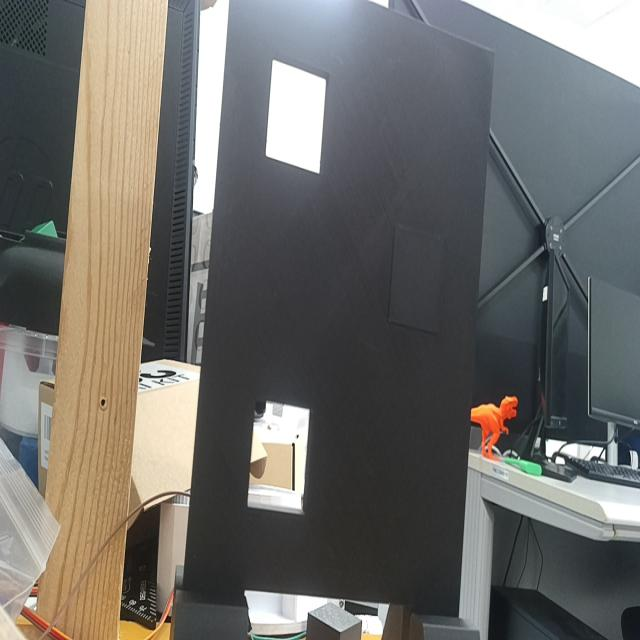Obstacle: (248, 397, 311, 515), (266, 60, 326, 173)
Wall: (186, 0, 494, 613)
